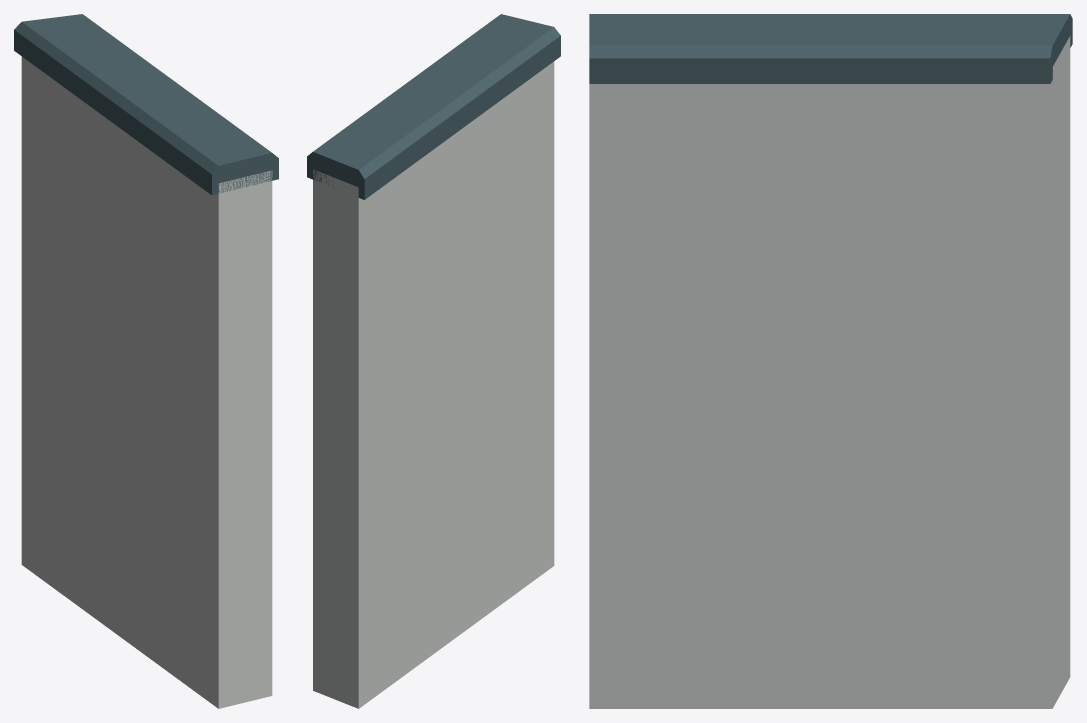
The model's file is halfwall_straight_50cm_miter_10000_0_10000_-2361.glb.
3 renders of one model, left to right at view 1: azimuth 30°, elevation 25°; view 2: azimuth 150°, elevation 25°; view 3: azimuth 270°, elevation 25°, orthographic. The views are drawn at different scales.
Visible parts, largest first — view 1: Seamless solid halfwall.028, Seamless top cap.028; view 2: Seamless solid halfwall.028, Seamless top cap.028; view 3: Seamless solid halfwall.028, Seamless top cap.028.
Boxes of the visible parts, box(x1,y1,x2,y2) form: Seamless solid halfwall.028: box(21, 56, 272, 708); Seamless top cap.028: box(14, 14, 278, 195); Seamless solid halfwall.028: box(313, 61, 554, 708); Seamless top cap.028: box(307, 14, 560, 199); Seamless solid halfwall.028: box(589, 36, 1070, 708); Seamless top cap.028: box(589, 14, 1072, 83).
Bounding box in the file's own units: 0.1 × 0.775 × 0.5118.
